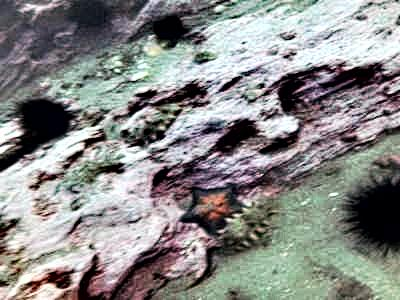urchin: (338, 170, 395, 256), (10, 96, 76, 154), (150, 14, 182, 39)
